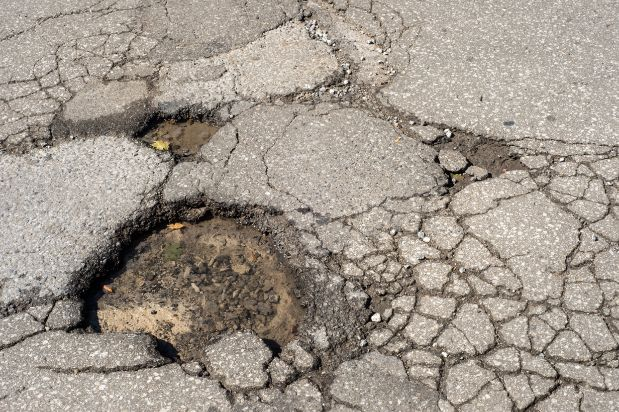pothole: (59, 191, 338, 371), (423, 122, 527, 194), (129, 106, 227, 159)
